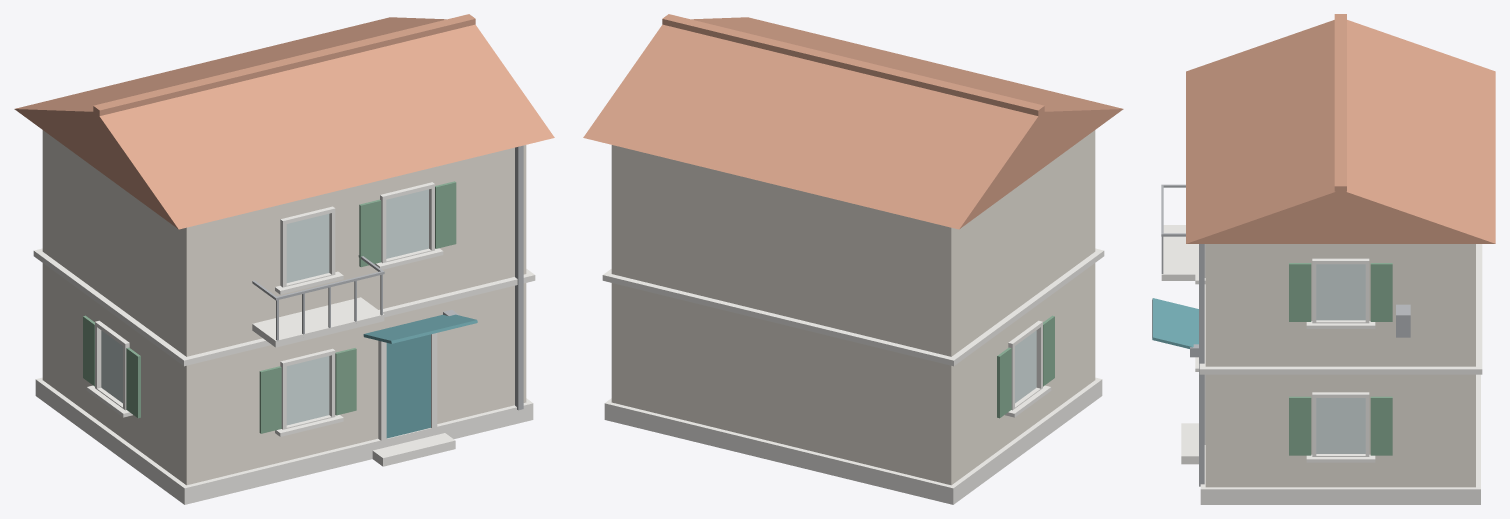
Rendered from harbor_1.glb.
3 views of the same model, side by side, from view 1: azimuth 30°, elevation 25°; view 2: azimuth 150°, elevation 25°; view 3: azimuth 270°, elevation 25° (orthographic). The views are drawn at different scales.
Visible parts, largest first — view 1: Bld_harbor_1; view 2: Bld_harbor_1; view 3: Bld_harbor_1.
Part boxes in pixels (x1,y1,x2,y2): Bld_harbor_1: (14,14,554,504); Bld_harbor_1: (583,14,1123,504); Bld_harbor_1: (1152,14,1495,504).
Size of the model in its own units: 8.42 by 7.29 by 6.99.
